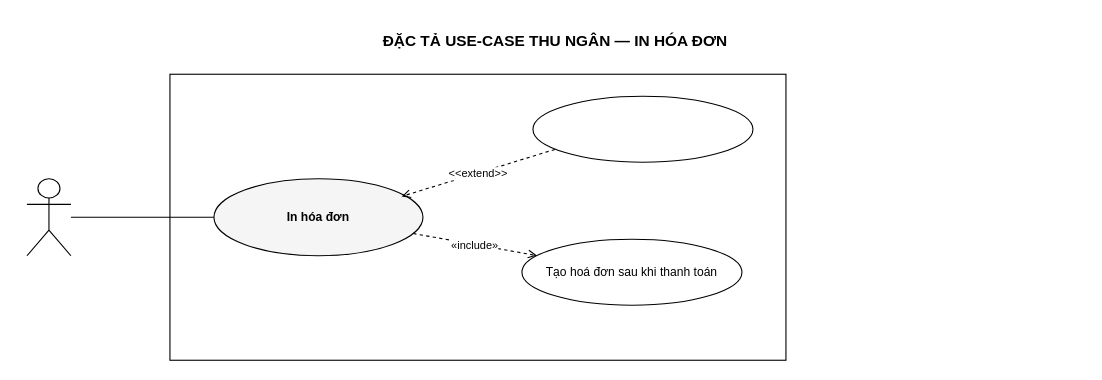
Image size: 1102x380. Some labels were removed from this diagram. Here are the shapes that lost their labels. From the top down, the centre of each, then its label:
At pixel 642 128: "Xem chi tiết hoá đơn sau khi in".
At pixel 48 217: "Thu ngân".
